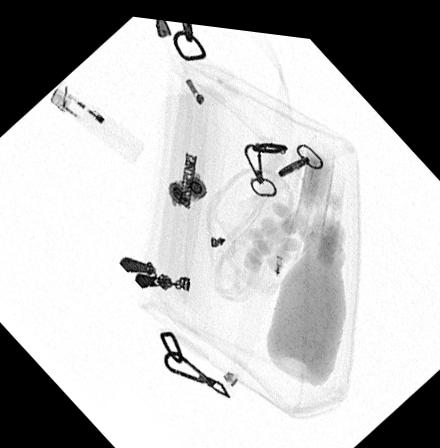Lighter: (50, 78, 143, 160)
